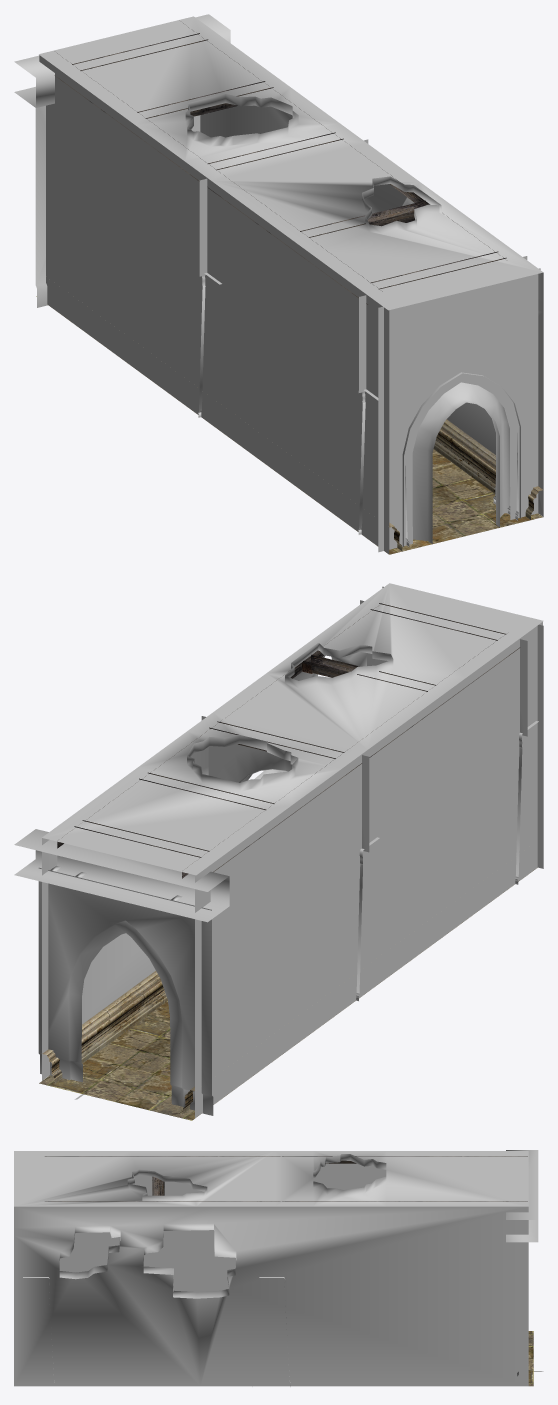
The model's file is SM_ChestTunnel.FBX.
3 renders of one model, top to bottom at view 1: azimuth 30°, elevation 25°; view 2: azimuth 150°, elevation 25°; view 3: azimuth 270°, elevation 25°, orthographic. The views are drawn at different scales.
Visible parts, largest first — view 1: SM_ChestTunnel; view 2: SM_ChestTunnel; view 3: SM_ChestTunnel.
Boxes of the visible parts, x1,y1,x2,y2 form: SM_ChestTunnel: (14, 14, 543, 554); SM_ChestTunnel: (14, 583, 543, 1120); SM_ChestTunnel: (14, 1150, 543, 1386).
Size of what is drawn, in the model's own units: 515 by 1648 by 643.
